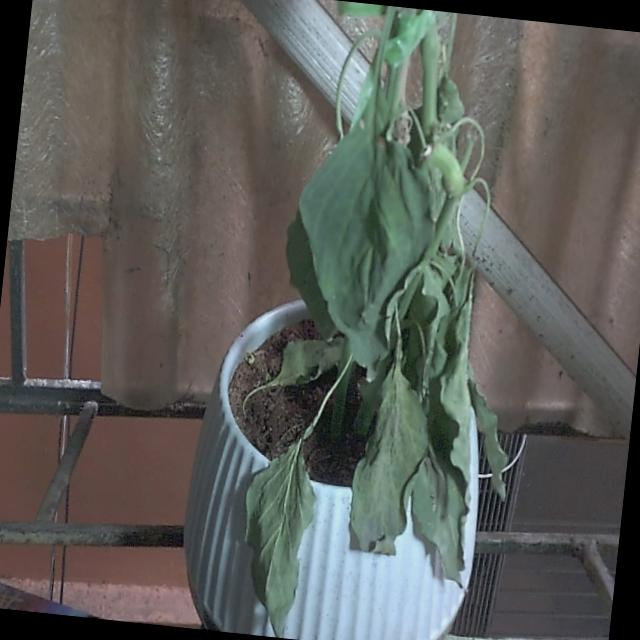Leaf: (299, 123, 433, 379), (351, 345, 428, 552), (246, 440, 315, 637), (408, 453, 468, 584), (286, 213, 336, 338), (468, 367, 507, 500), (265, 337, 344, 387)
